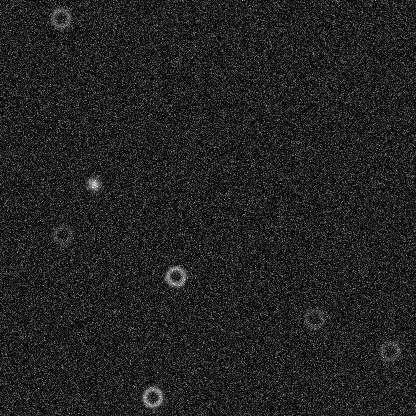Ring: (302, 306, 326, 330), (377, 338, 401, 362), (140, 384, 164, 408), (48, 5, 72, 29), (163, 264, 187, 288), (50, 222, 74, 246)
Spot: (85, 176, 101, 192)
